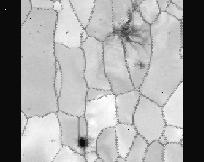good_void: (104, 3, 154, 51), (76, 131, 93, 149), (131, 57, 147, 69), (65, 29, 71, 35), (50, 136, 56, 142), (21, 54, 25, 57)
